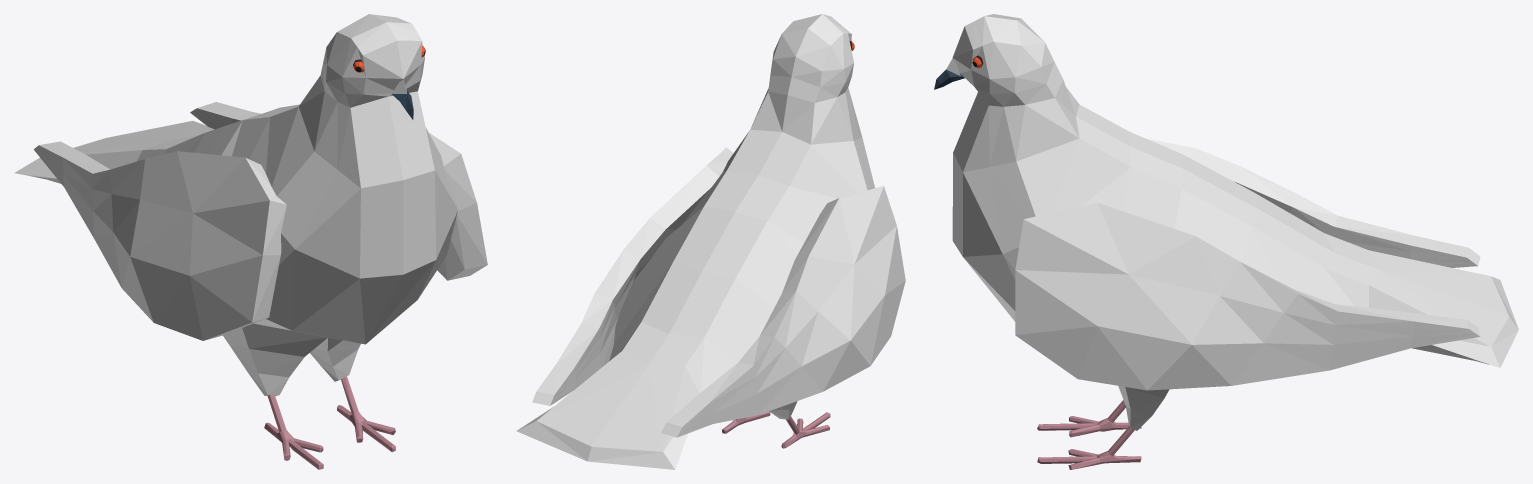
File: Pigeon 0.fbx
3 renders of one model, left to right at view 1: azimuth 30°, elevation 25°; view 2: azimuth 150°, elevation 25°; view 3: azimuth 270°, elevation 25°, orthographic. The views are drawn at different scales.
Parts seen in each view (by area): view 1: Pigeon; view 2: Pigeon; view 3: Pigeon.
Part boxes in pixels (x1=…): Pigeon: x1=14, y1=14, x2=487, y2=469; Pigeon: x1=516, y1=14, x2=905, y2=469; Pigeon: x1=934, y1=14, x2=1518, y2=469.
Bounding box in the file's own units: 16.32 × 24.67 × 30.34.
